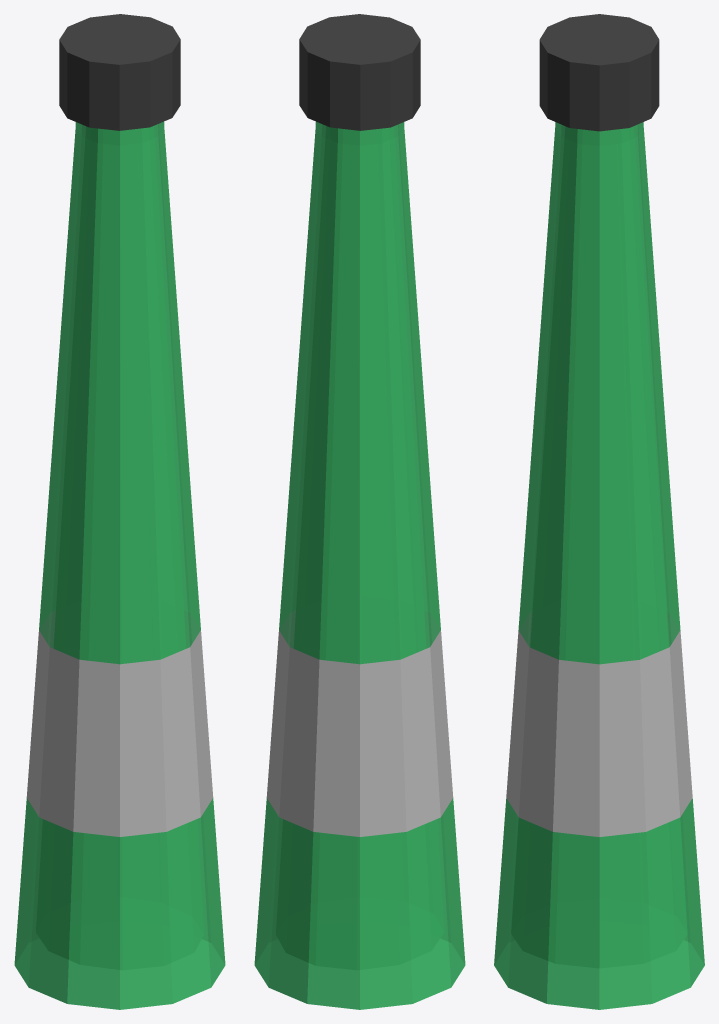
Rendered from Spirit Bottle 1.fbx.
3 renders of one model, left to right at view 1: azimuth 30°, elevation 25°; view 2: azimuth 150°, elevation 25°; view 3: azimuth 270°, elevation 25°, orthographic.
Parts seen in each view (by area): view 1: Spirit Bottle 1, Spirit Bottle 1 Lid; view 2: Spirit Bottle 1, Spirit Bottle 1 Lid; view 3: Spirit Bottle 1, Spirit Bottle 1 Lid.
Part boxes in pixels (bbox=[...]): Spirit Bottle 1: bbox=[14, 121, 225, 1009]; Spirit Bottle 1 Lid: bbox=[59, 14, 180, 130]; Spirit Bottle 1: bbox=[254, 121, 465, 1009]; Spirit Bottle 1 Lid: bbox=[299, 14, 420, 130]; Spirit Bottle 1: bbox=[494, 122, 704, 1009]; Spirit Bottle 1 Lid: bbox=[539, 14, 659, 131].
Bounding box in the file's own units: 134 × 651 × 134.
